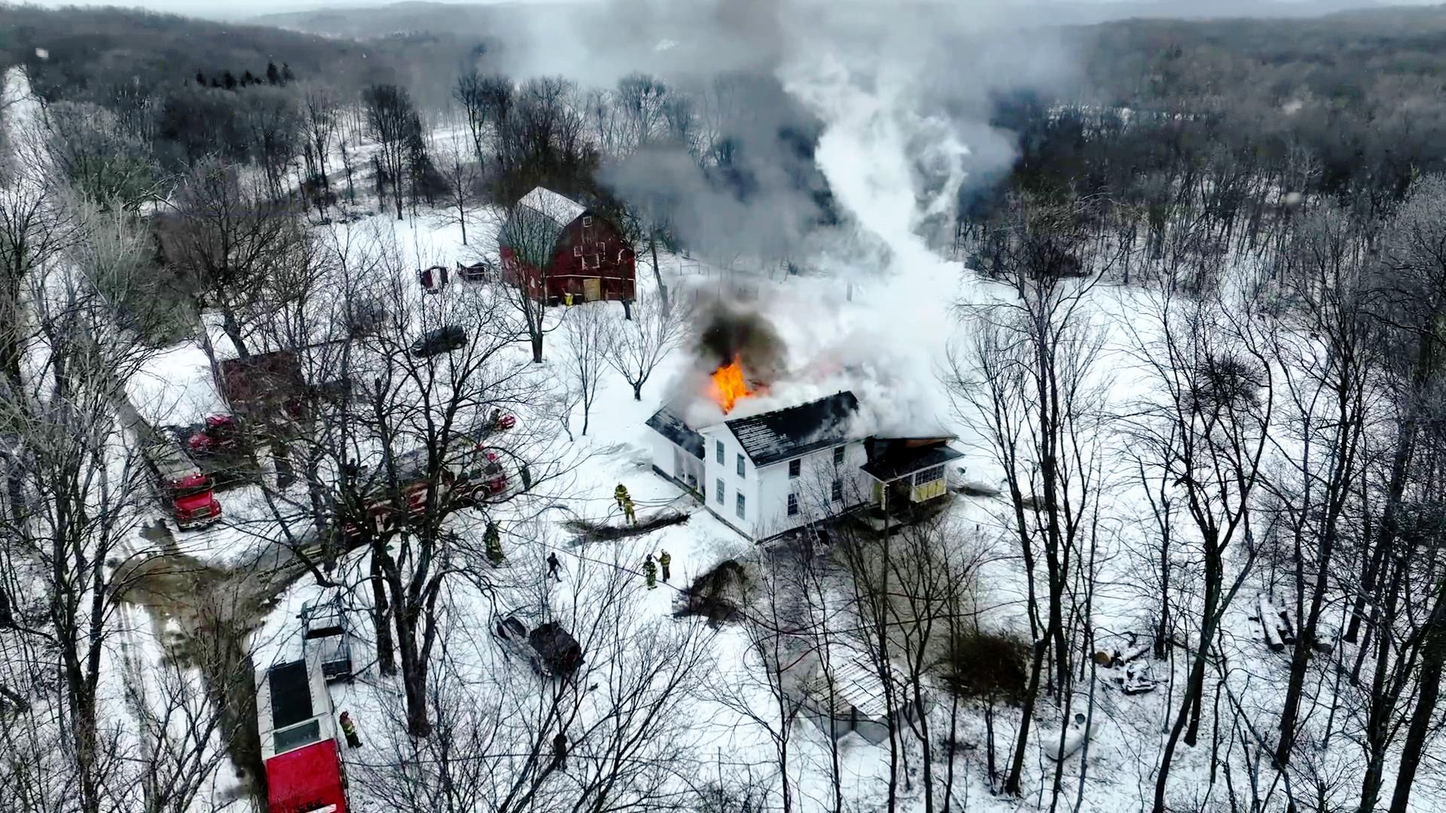fire: (712, 364, 760, 423)
